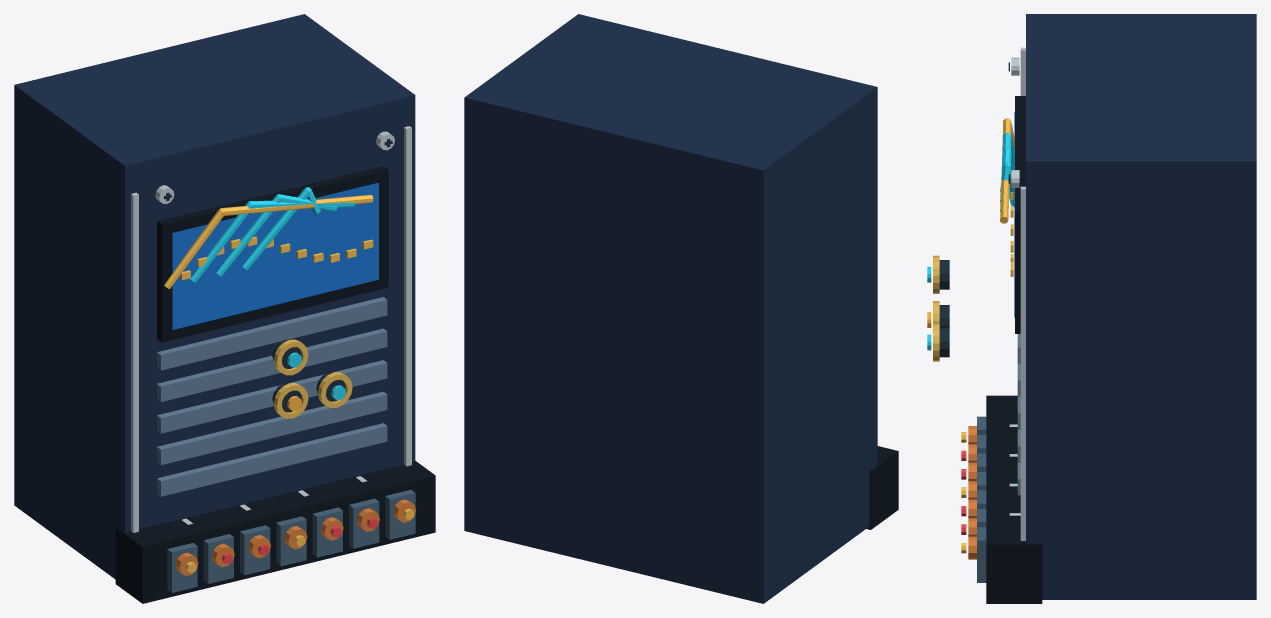
The model's file is 18_L83_PVStringStarboardIVTracer.fbx.
3 renders of one model, left to right at view 1: azimuth 30°, elevation 25°; view 2: azimuth 150°, elevation 25°; view 3: azimuth 270°, elevation 25°, orthographic. The views are drawn at different scales.
Visible parts, largest first — view 1: PVStringStarboardIVTracer; view 2: PVStringStarboardIVTracer; view 3: PVStringStarboardIVTracer.
Boxes of the visible parts, <box> form: PVStringStarboardIVTracer: <box>14,14,435,603</box>; PVStringStarboardIVTracer: <box>464,14,898,603</box>; PVStringStarboardIVTracer: <box>927,14,1256,603</box>.
Size of the model in its own units: 113 by 156 by 106.
